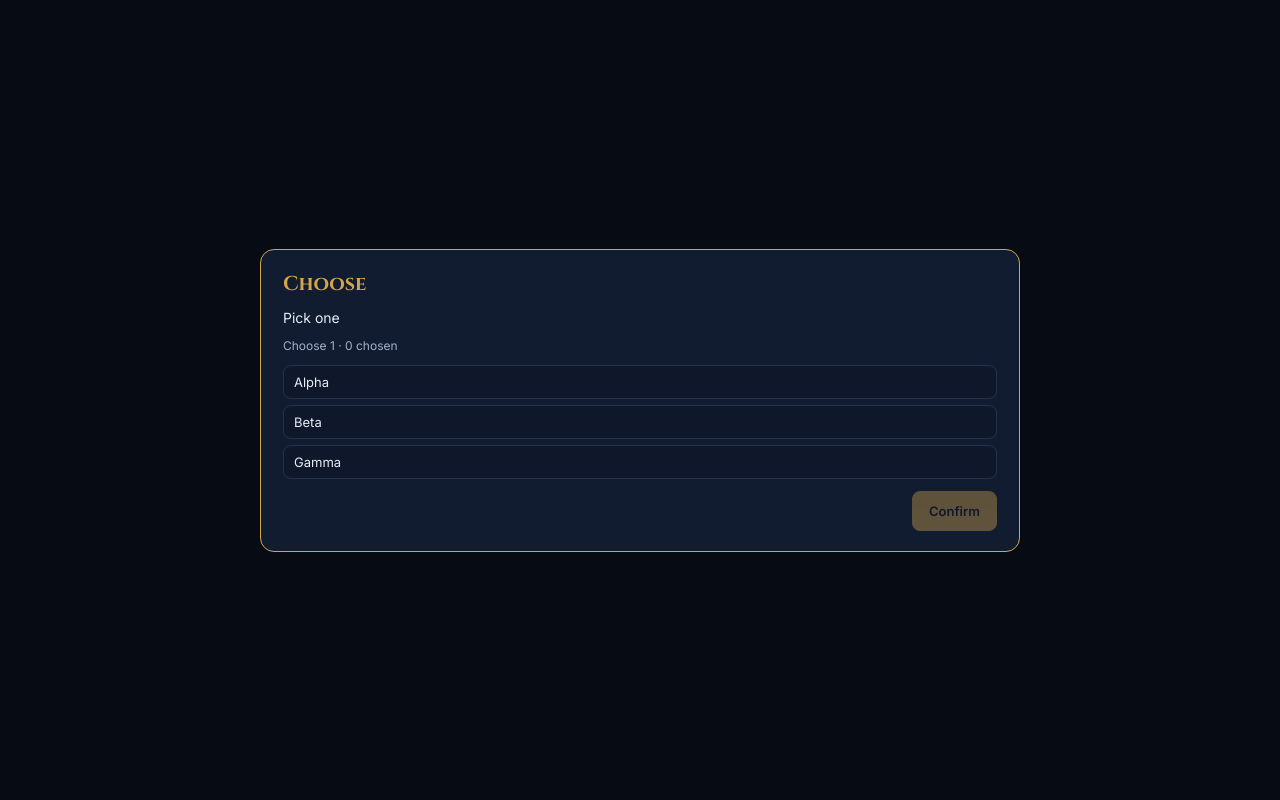
it: rejected keeps dialog open with reason
The width and height of the screenshot is (1280, 800).
Click the button "Alpha": (312, 382) [283,364,997,398]
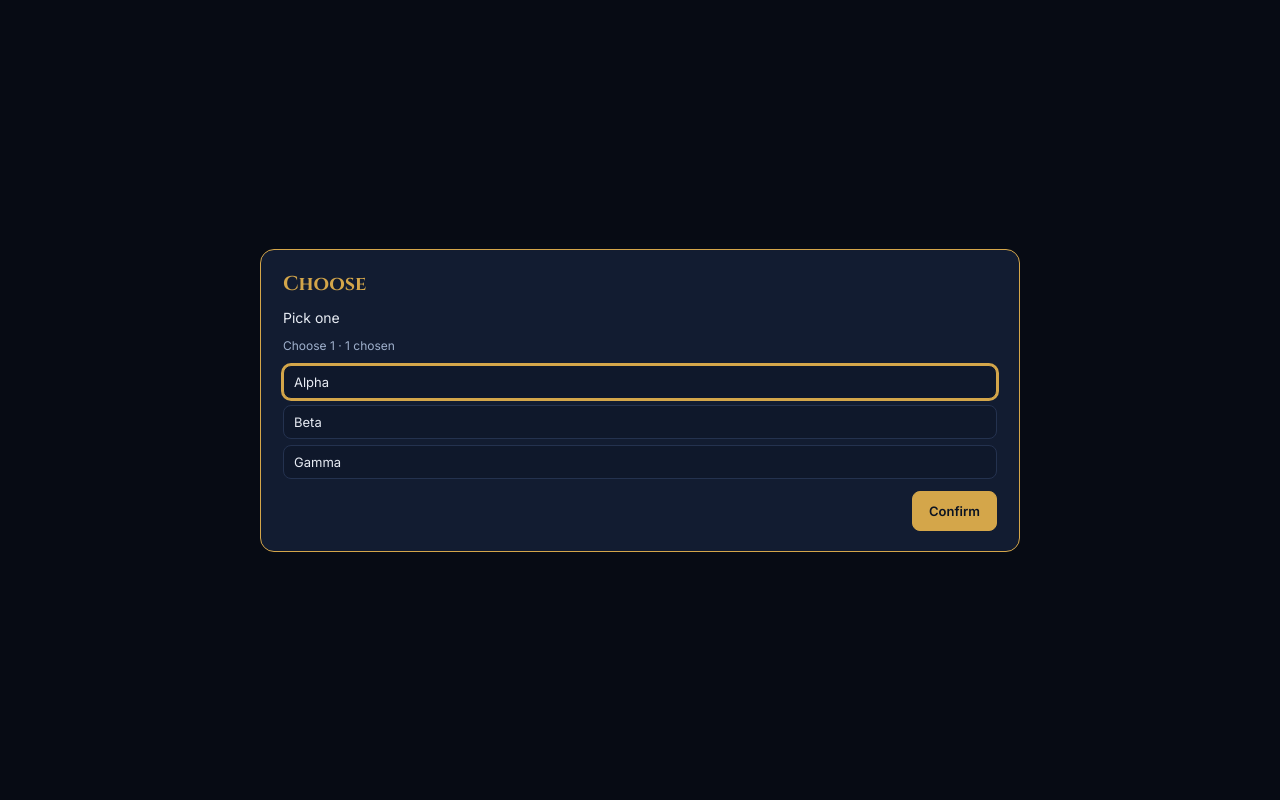
Click the button "Confirm": (954, 510) [912,490,997,530]
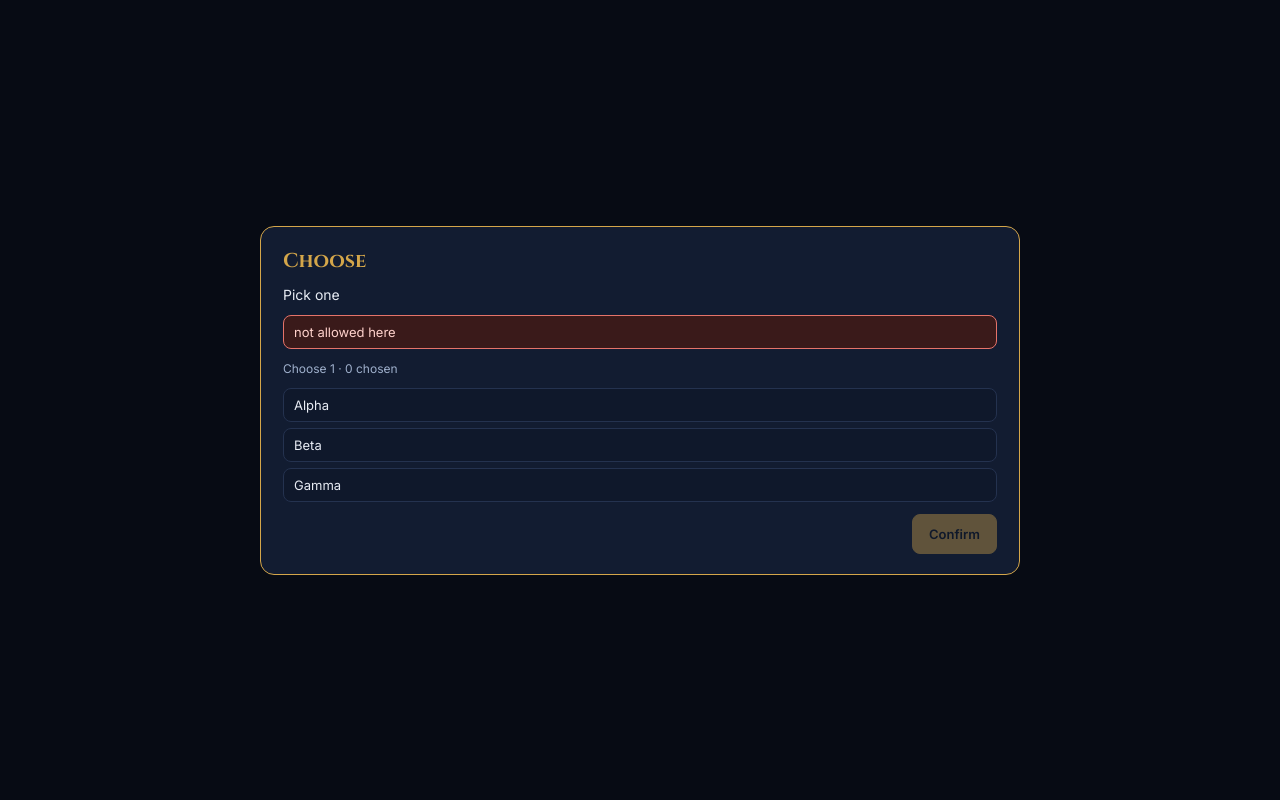
Expected: the dialog is shown, [260,226,1020,574]
Now the message reads "not allowed here", box [294,324,396,340]
